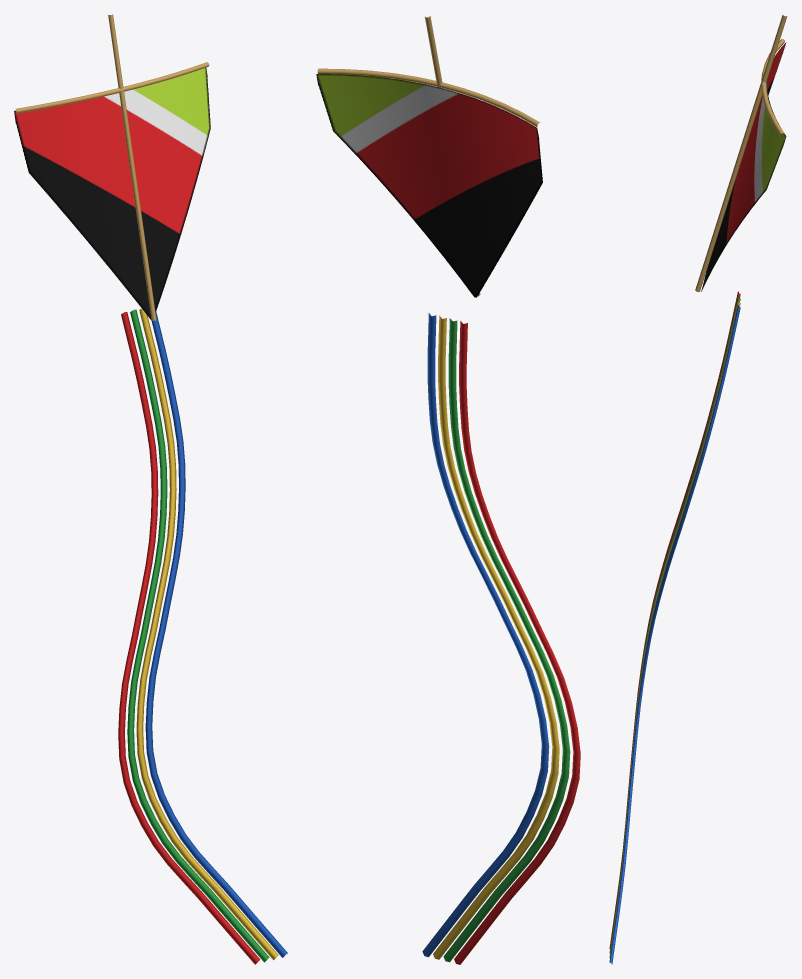
Rendered from bico-2-vermelho-e-lima.glb.
3 renders of one model, left to right at view 1: azimuth 30°, elevation 25°; view 2: azimuth 150°, elevation 25°; view 3: azimuth 270°, elevation 25°, orthographic. The views are drawn at different scales.
Visible parts, largest first — view 1: bico-2-vermelho-e-lima; view 2: bico-2-vermelho-e-lima; view 3: bico-2-vermelho-e-lima.
Boxes of the visible parts, x1,y1,x2,y2 form: bico-2-vermelho-e-lima: (14,14,287,964); bico-2-vermelho-e-lima: (316,16,580,964); bico-2-vermelho-e-lima: (609,15,787,964).
Size of the model in its own units: 1.06 by 4.72 by 0.8386.
Materials: 6 (1 with a texture image).
